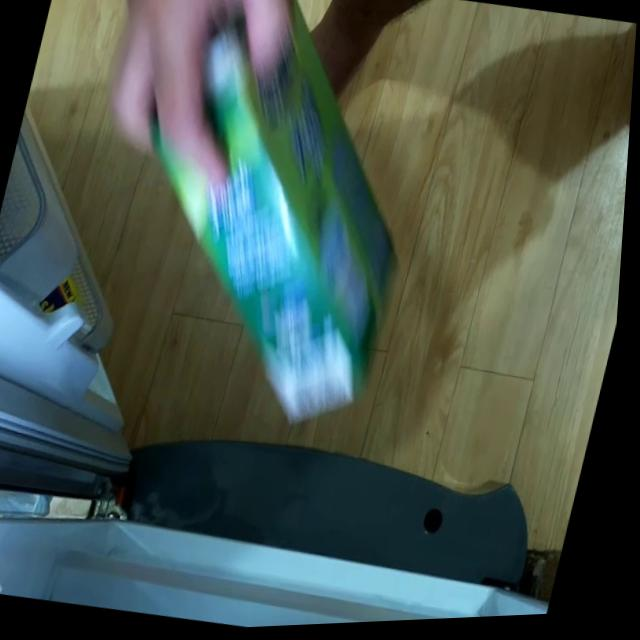milk: (97, 0, 460, 444)
